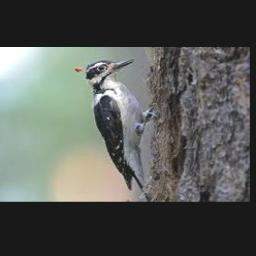Woodpecker: (74, 59, 157, 197)
